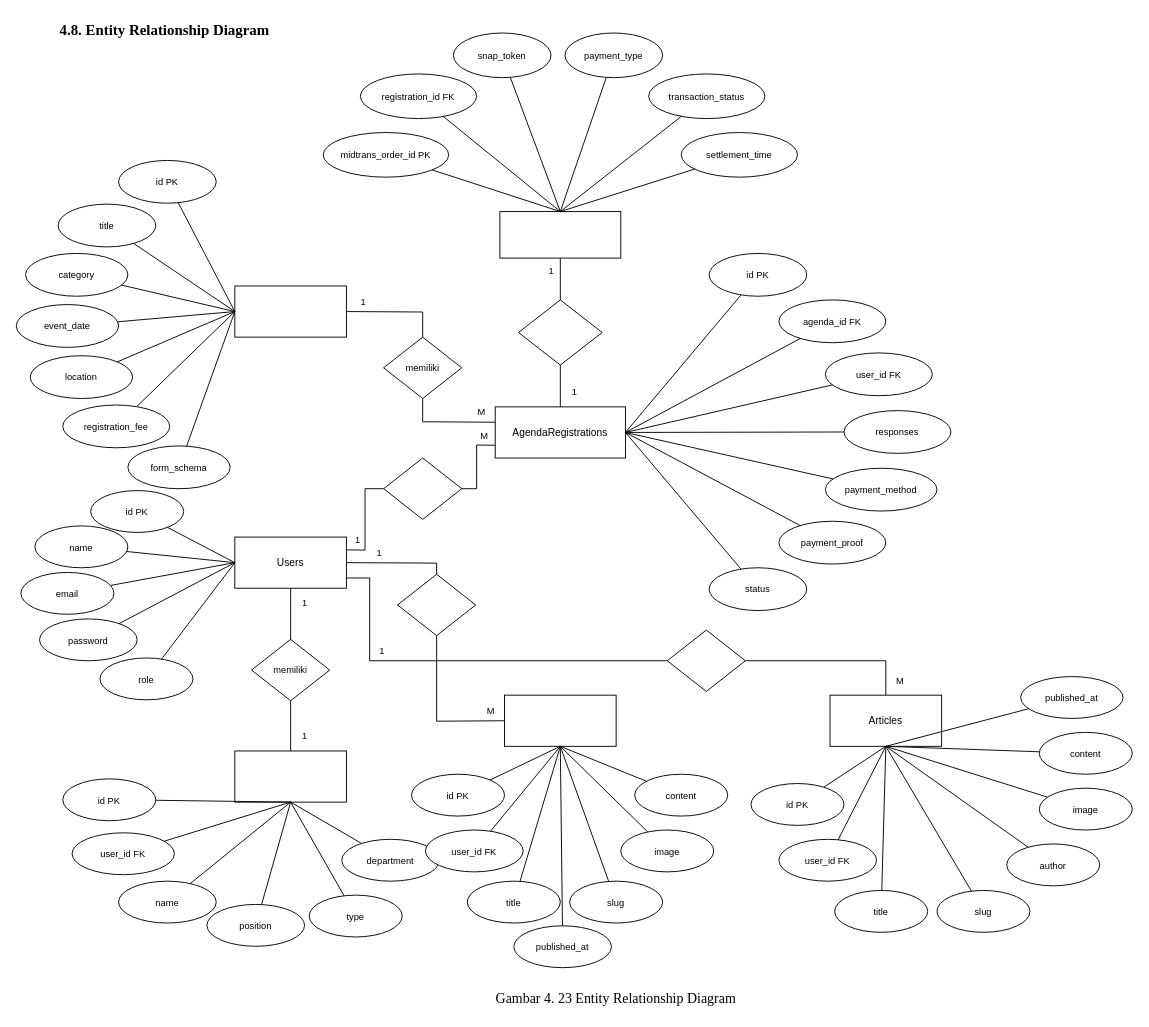
The diagram is 1149 pixels wide and 1027 high, and some of its shapes have lost their labels. Each missing label, with the box of its shape:
Agendas: (234, 285, 346, 337)
dibayar dengan: (518, 299, 602, 365)
Members: (234, 750, 346, 802)
memproses: (383, 457, 462, 519)
mengelola: (397, 573, 476, 636)
menulis: (666, 629, 745, 691)
Pembayaran: (499, 211, 621, 258)
Posts: (504, 694, 616, 746)
